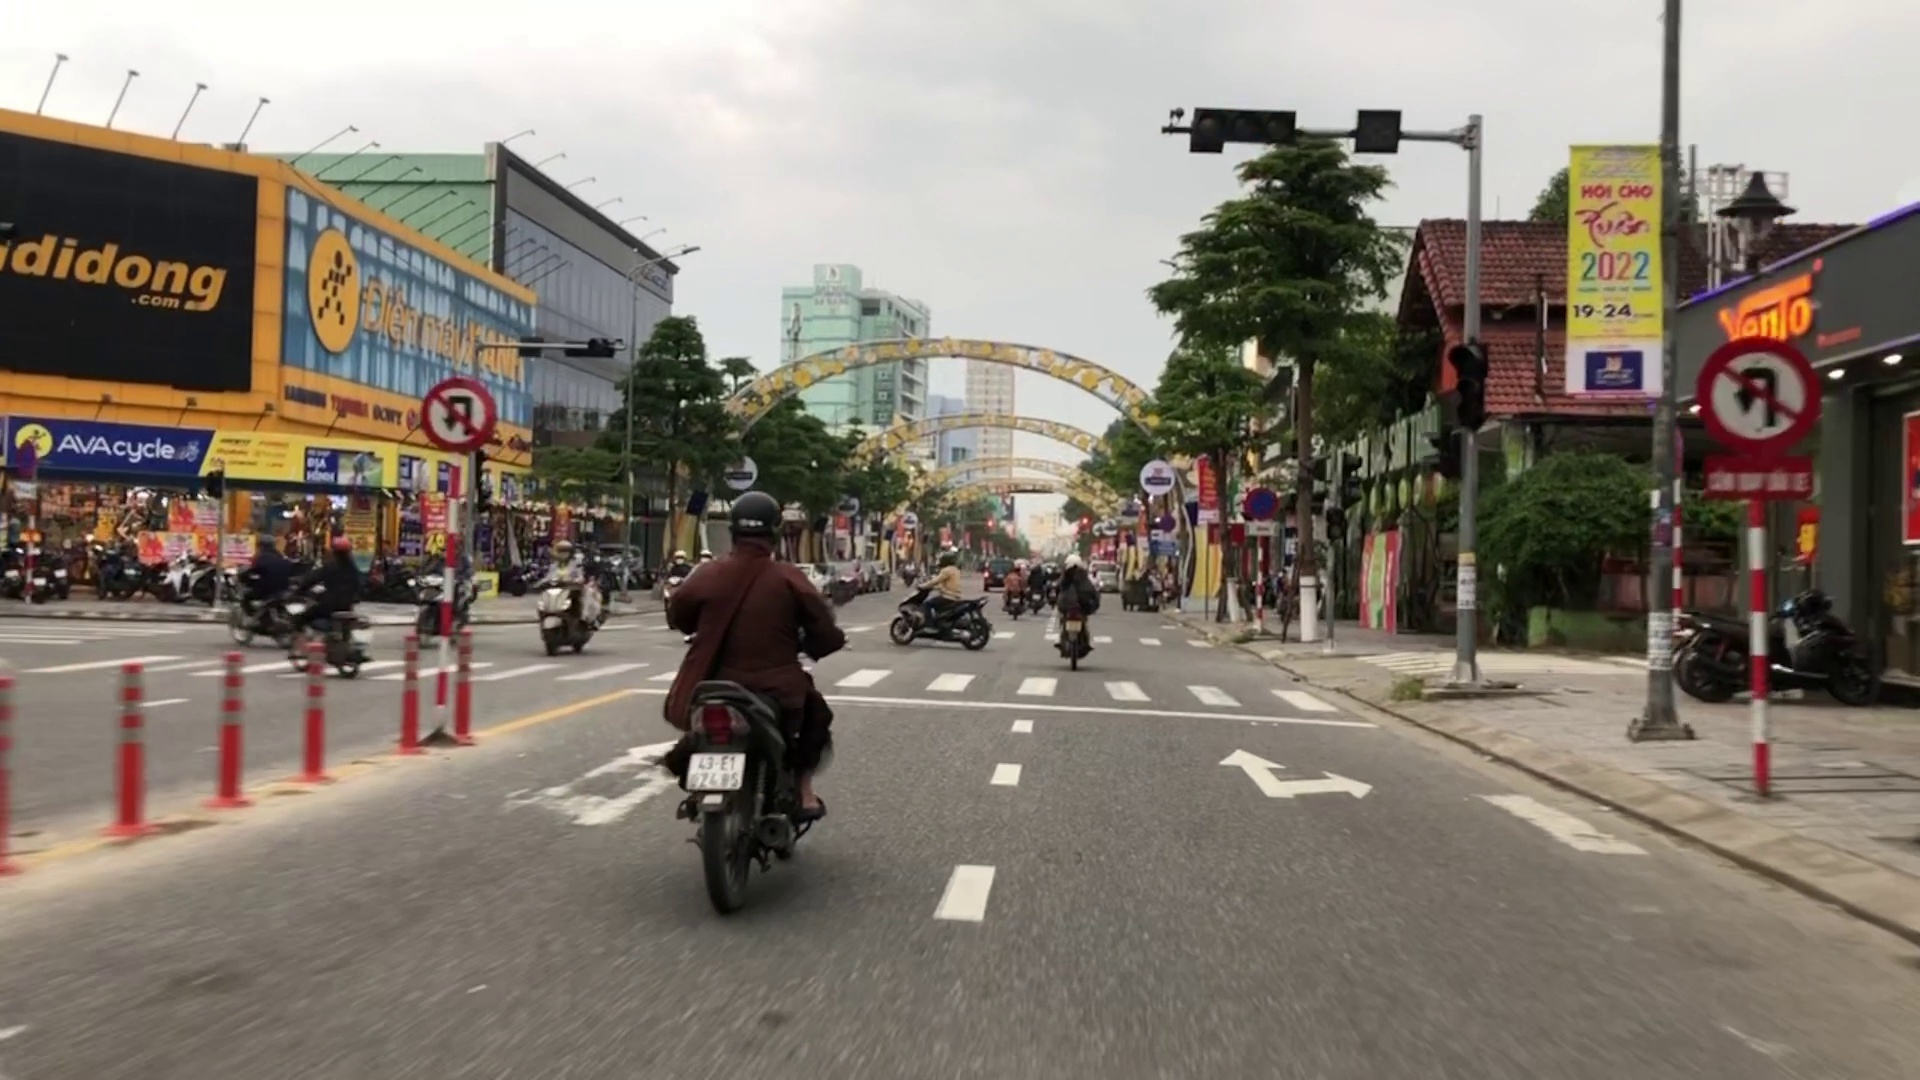Bien khac: (1696, 331, 1824, 460), (421, 378, 495, 454)
Cam do xe: (1242, 483, 1276, 524)
